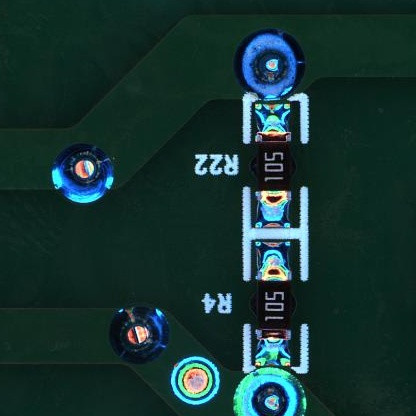spot: (51, 142, 115, 205), (239, 34, 299, 101), (234, 367, 306, 416), (112, 309, 170, 363), (168, 356, 221, 404)
